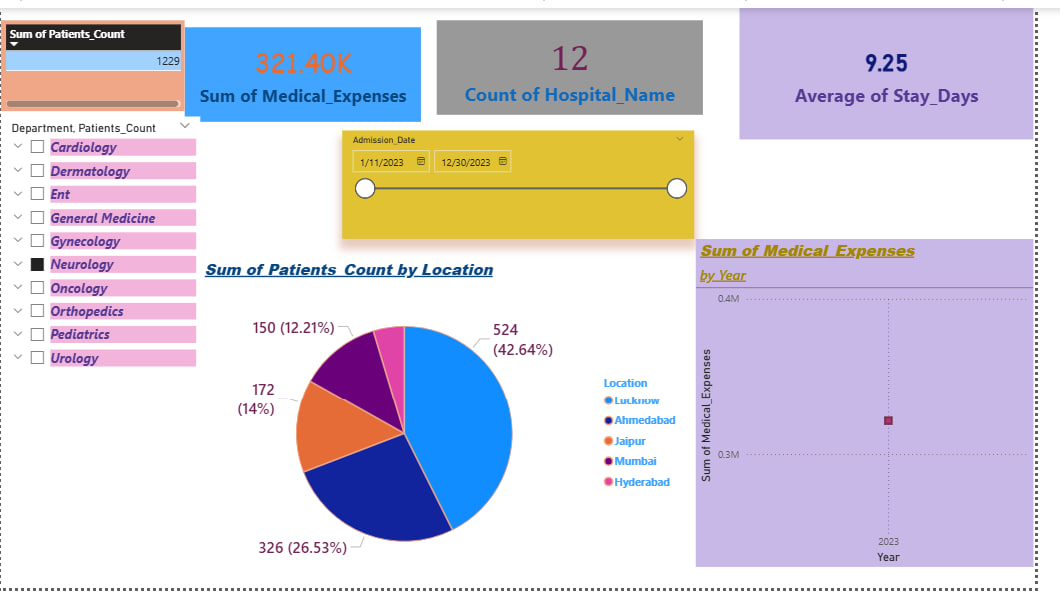

Layout of this report page (visuals, bound fields, positions):
{"tool":"powerbi","page":{"name":"Page 1","canvas":[1280,720],"ordinal":0},"visuals":[{"type":"card","fields":{"Values":["Sum(Cleaning_Hospital_Data.Medical_Expenses)"]},"box":[227.6,23.8,292.6,117.1],"z":0},{"type":"tableEx","fields":{"Values":["Sum(Cleaning_Hospital_Data.Patients_Count)"]},"box":[0,15.2,227.6,112.7],"z":1000},{"type":"card","fields":{"Values":["CountNonNull(Cleaning_Hospital_Data.Hospital_Name)"]},"box":[539.8,15.2,329.5,117.1],"z":2000},{"type":"card","fields":{"Values":["Avg(Cleaning_Hospital_Data.Stay_Days)"]},"box":[914.8,0,364.2,162.6],"z":3000},{"type":"slicer","fields":{"Values":["Cleaning_Hospital_Data.Department","Cleaning_Hospital_Data.Patients_Count"]},"box":[0,134.5,246.6,351.9],"z":4000},{"type":"pieChart","fields":{"Category":["Cleaning_Hospital_Data.Location"],"Y":["Sum(Cleaning_Hospital_Data.Patients_Count)"]},"box":[247.1,310,602.6,409.7],"z":5000},{"type":"slicer","fields":{"Values":["Cleaning_Hospital_Data.Admission_Date"]},"box":[422.7,151.7,435.7,134.4],"z":6000},{"type":"lineChart","fields":{"Category":["Cleaning_Hospital_Data.Admission_Date.Variation.Date Hierarchy.Year"],"Y":["Sum(Cleaning_Hospital_Data.Medical_Expenses)"]},"box":[860.6,286.1,418.4,407.5],"z":7000}]}

Visuals, with their boxes in screenshot pixels (x1, y1, x2, y2), scaled from the page's 1280x720 canvas onto the 1060x600 screenshot:
card - Sum(Cleaning_Hospital_Data.Medical_Expenses): [188,20,431,117]
tableEx - Sum(Cleaning_Hospital_Data.Patients_Count): [0,13,188,107]
card - CountNonNull(Cleaning_Hospital_Data.Hospital_Name): [447,13,720,110]
card - Avg(Cleaning_Hospital_Data.Stay_Days): [758,0,1059,136]
slicer - Cleaning_Hospital_Data.Department x Cleaning_Hospital_Data.Patients_Count: [0,112,204,405]
pieChart - Cleaning_Hospital_Data.Location x Sum(Cleaning_Hospital_Data.Patients_Count): [205,258,704,599]
slicer - Cleaning_Hospital_Data.Admission_Date: [350,126,711,238]
lineChart - Cleaning_Hospital_Data.Admission_Date.Variation.Date Hierarchy.Year x Sum(Cleaning_Hospital_Data.Medical_Expenses): [713,238,1059,578]
